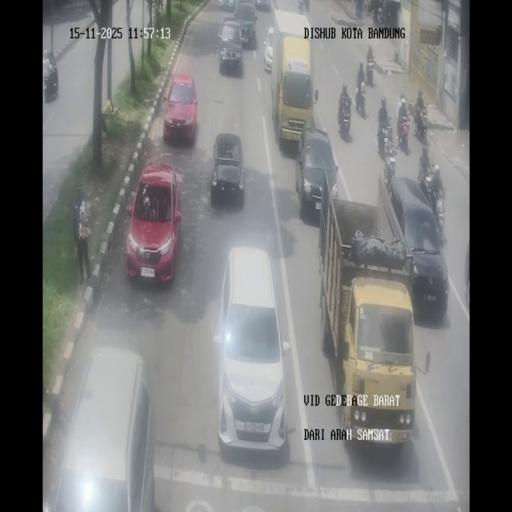3: (317, 160, 419, 442), (270, 8, 313, 149)
car: (50, 347, 154, 509), (216, 244, 289, 457), (125, 160, 183, 286), (295, 125, 337, 222), (162, 73, 198, 145), (218, 17, 244, 74), (264, 27, 274, 73), (236, 0, 256, 17), (216, 0, 236, 11)
truck: (379, 125, 397, 179), (432, 179, 446, 238), (337, 94, 352, 139), (418, 166, 435, 204), (414, 103, 428, 142), (398, 113, 410, 151), (355, 81, 366, 116), (365, 54, 375, 86), (366, 0, 374, 17), (377, 5, 383, 23), (297, 0, 304, 11), (303, 0, 309, 11)
